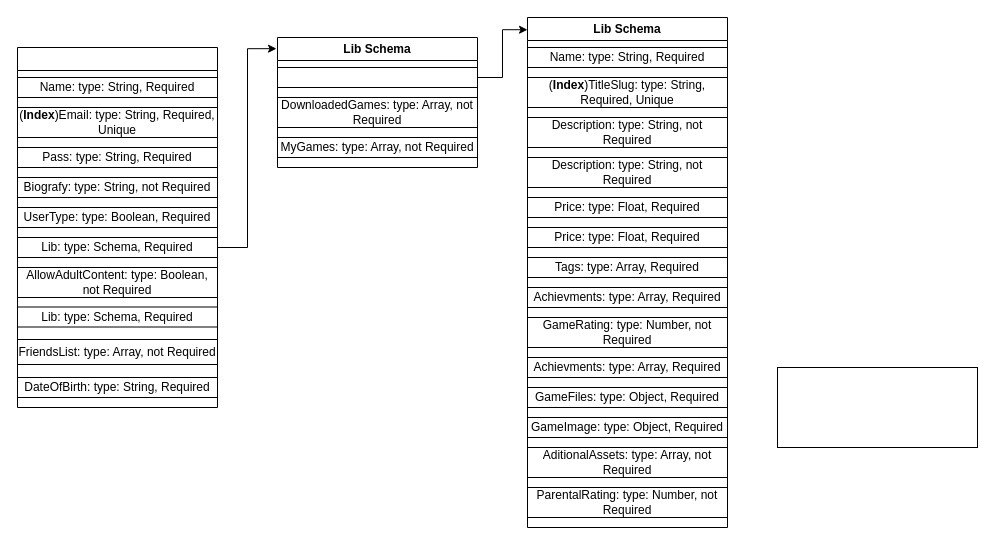
This 995x545 diagram has some shape labels left out. Here are the shapes that lost their labels. From the top down, the box of each, then its label:
(276, 66, 478, 88): Games: type: Array, not Required
(16, 46, 218, 408): User Schema
(776, 366, 978, 448): src: type: String
